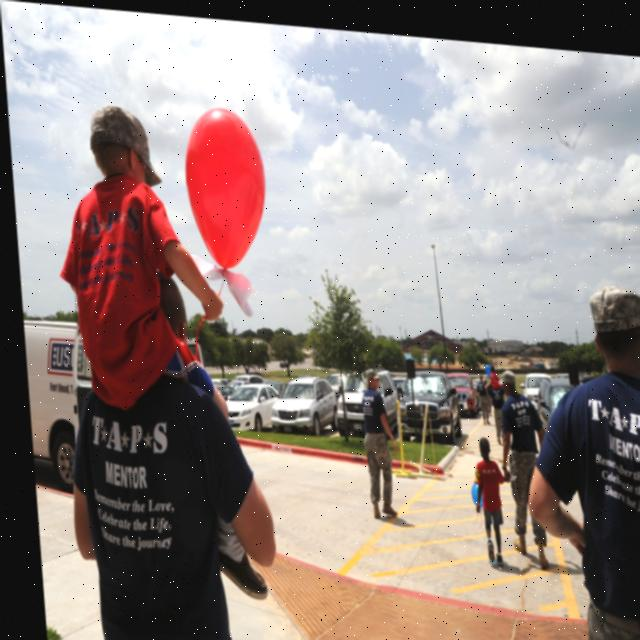balloon: (181, 102, 270, 271), (461, 470, 479, 502), (478, 353, 487, 371)
